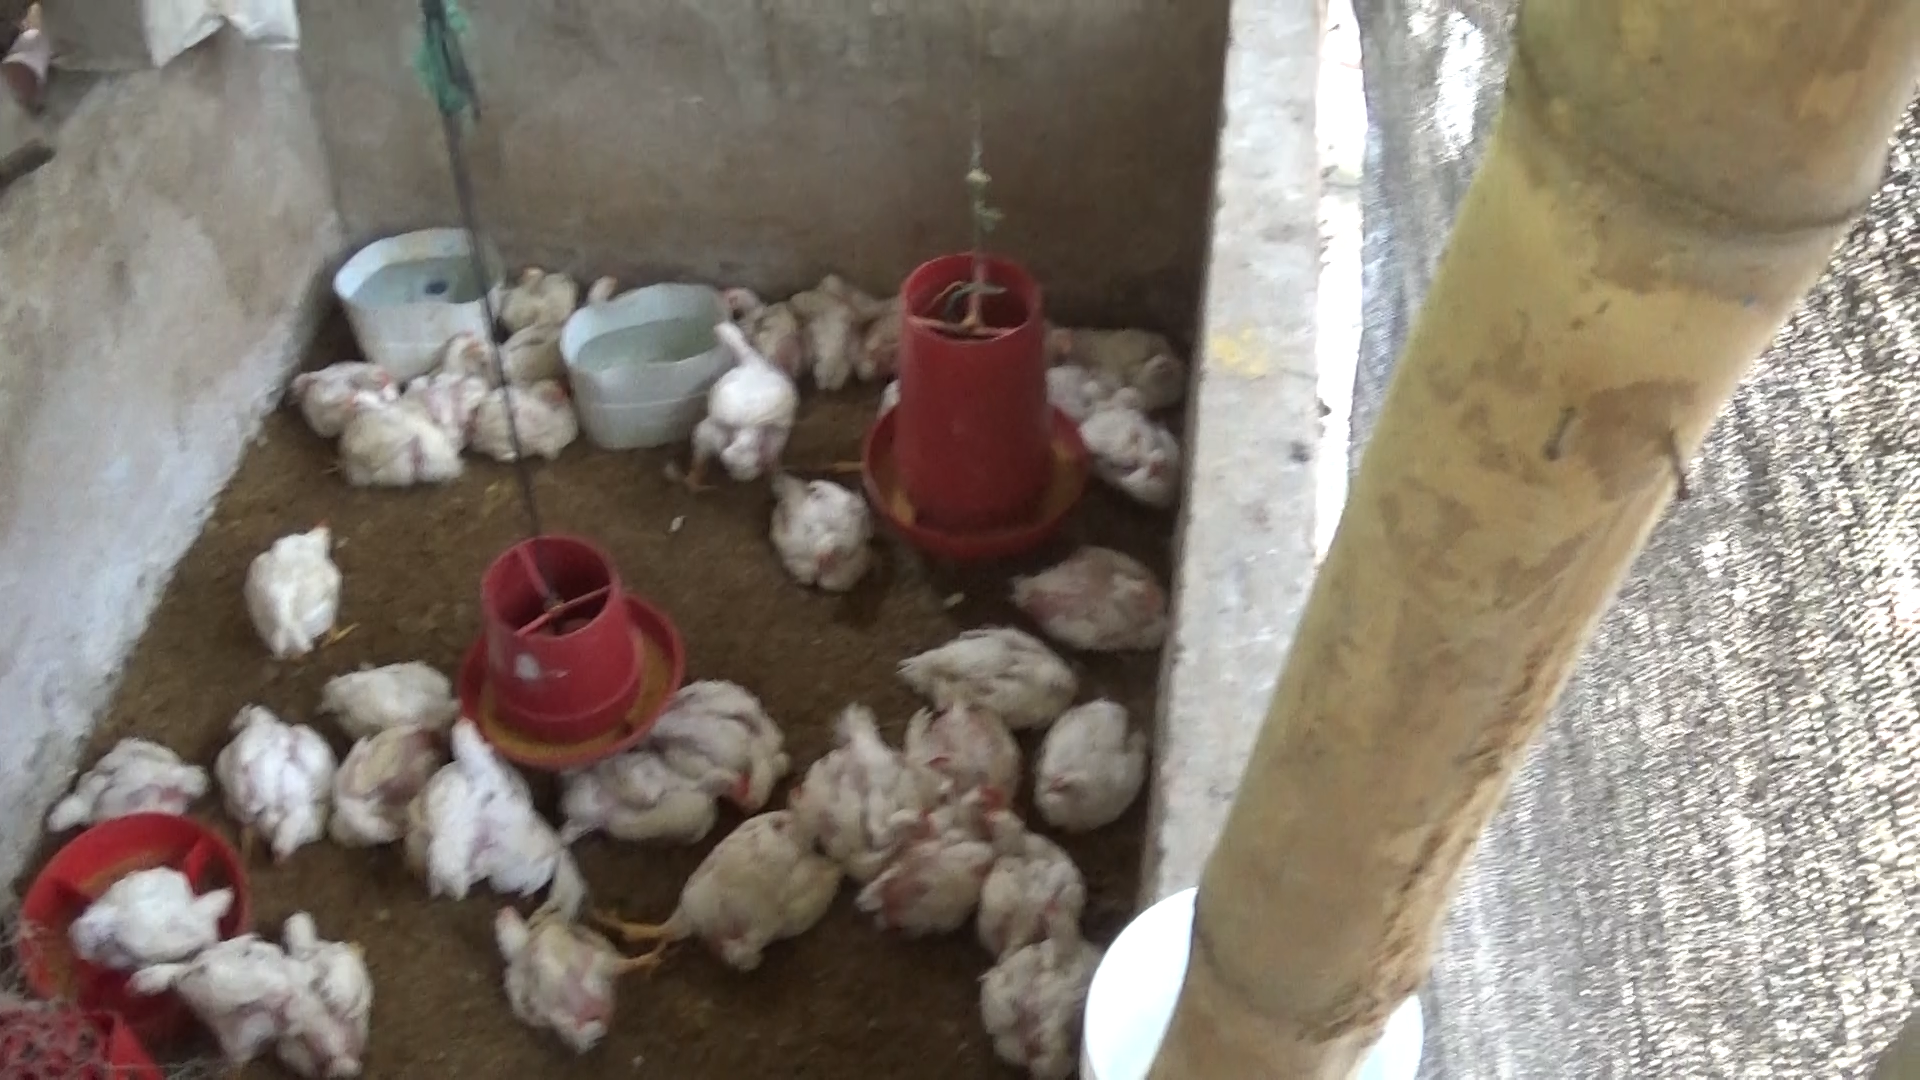Pollos: (607, 787, 845, 982), (407, 719, 584, 911), (967, 893, 1112, 1073), (111, 911, 293, 1054), (471, 891, 628, 1047), (800, 696, 928, 885), (237, 512, 372, 676), (208, 692, 338, 857), (651, 666, 800, 807), (1006, 541, 1178, 658), (884, 622, 1087, 721), (903, 670, 1025, 832), (41, 723, 206, 841), (281, 893, 385, 1072), (688, 322, 795, 496), (57, 858, 236, 959), (976, 804, 1092, 957), (760, 465, 891, 597), (305, 719, 429, 857), (556, 753, 737, 847), (1033, 684, 1151, 822), (862, 824, 996, 938), (342, 385, 475, 493), (493, 272, 622, 373), (309, 658, 462, 738), (789, 284, 891, 396), (1076, 400, 1183, 502), (473, 375, 578, 462), (1085, 324, 1196, 402), (294, 345, 386, 429), (410, 322, 487, 406), (731, 277, 827, 340)
